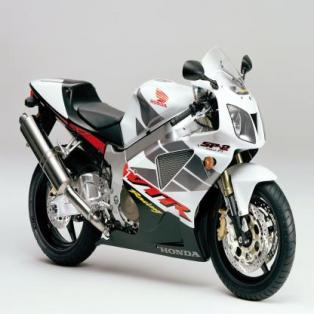Motocicleta: (16, 47, 294, 302)
